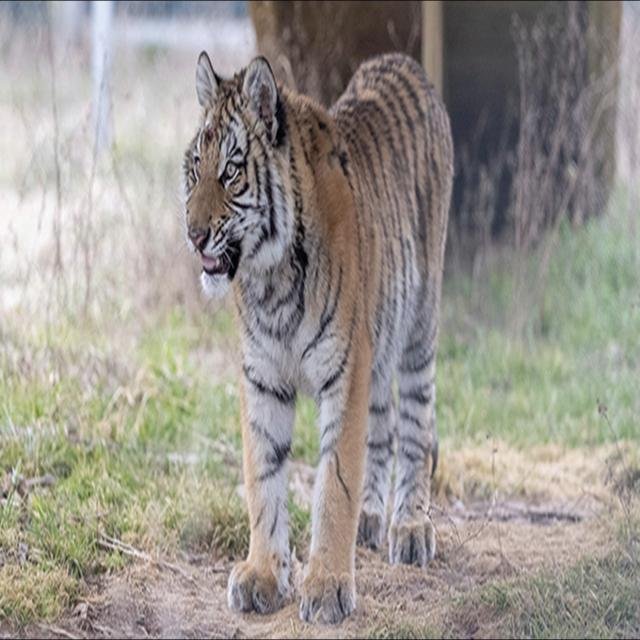tiger: (184, 52, 454, 623)
